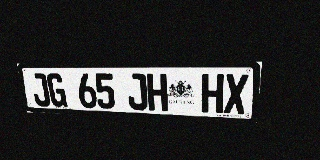5: (94, 73, 116, 109)
6: (76, 73, 98, 108)
G: (46, 73, 68, 107)
H: (201, 74, 224, 113), (146, 74, 168, 111)
J: (126, 73, 148, 110), (29, 73, 51, 107)
X: (224, 74, 248, 114)
